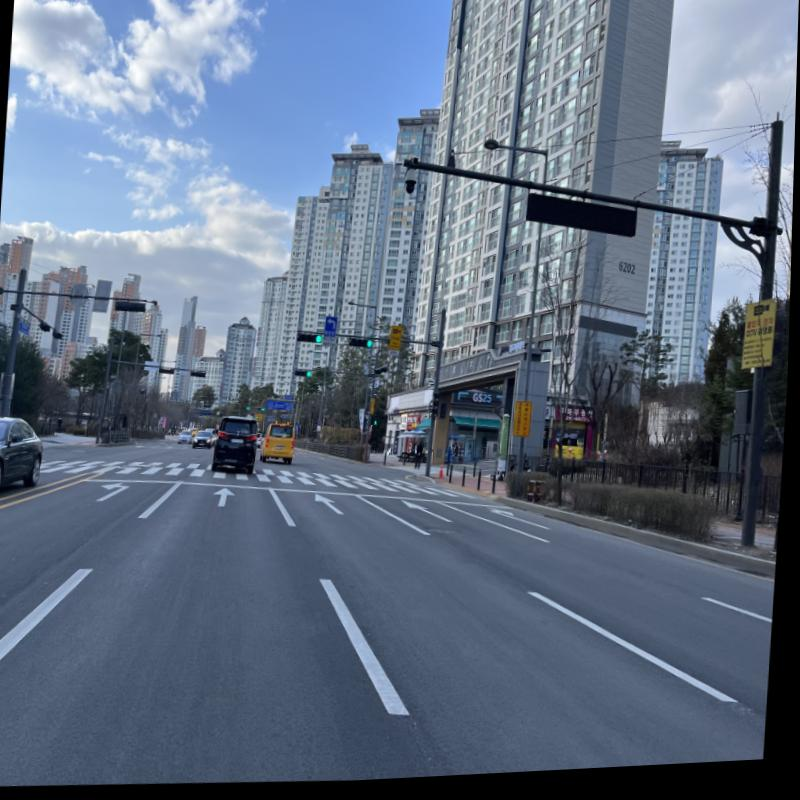green: (368, 344, 375, 351), (317, 338, 323, 346)
